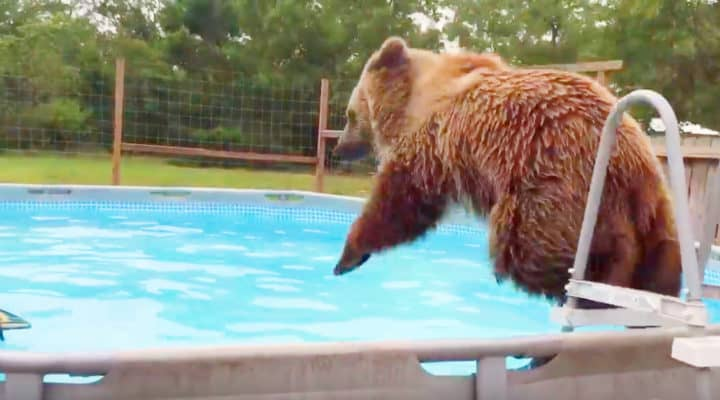bear: (327, 34, 416, 165)
